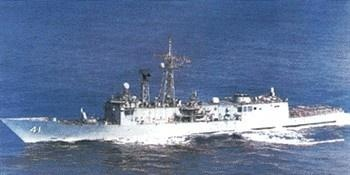warship: (1, 44, 350, 142)
